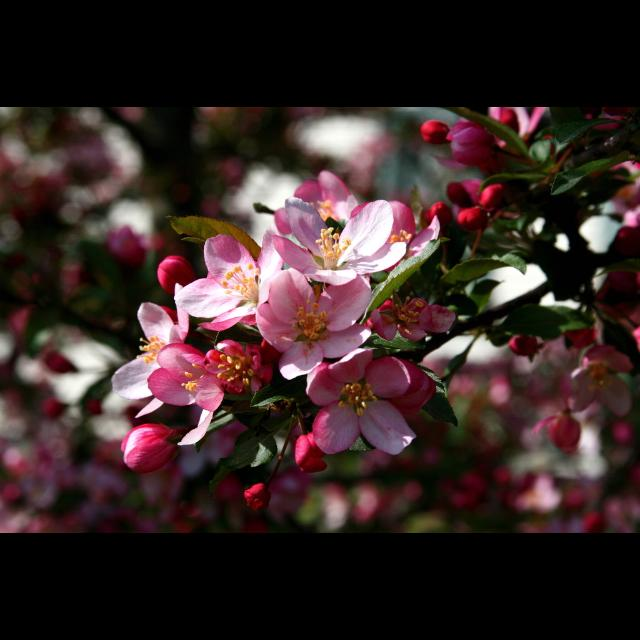Flower: (111, 107, 639, 533), (120, 423, 178, 477)
